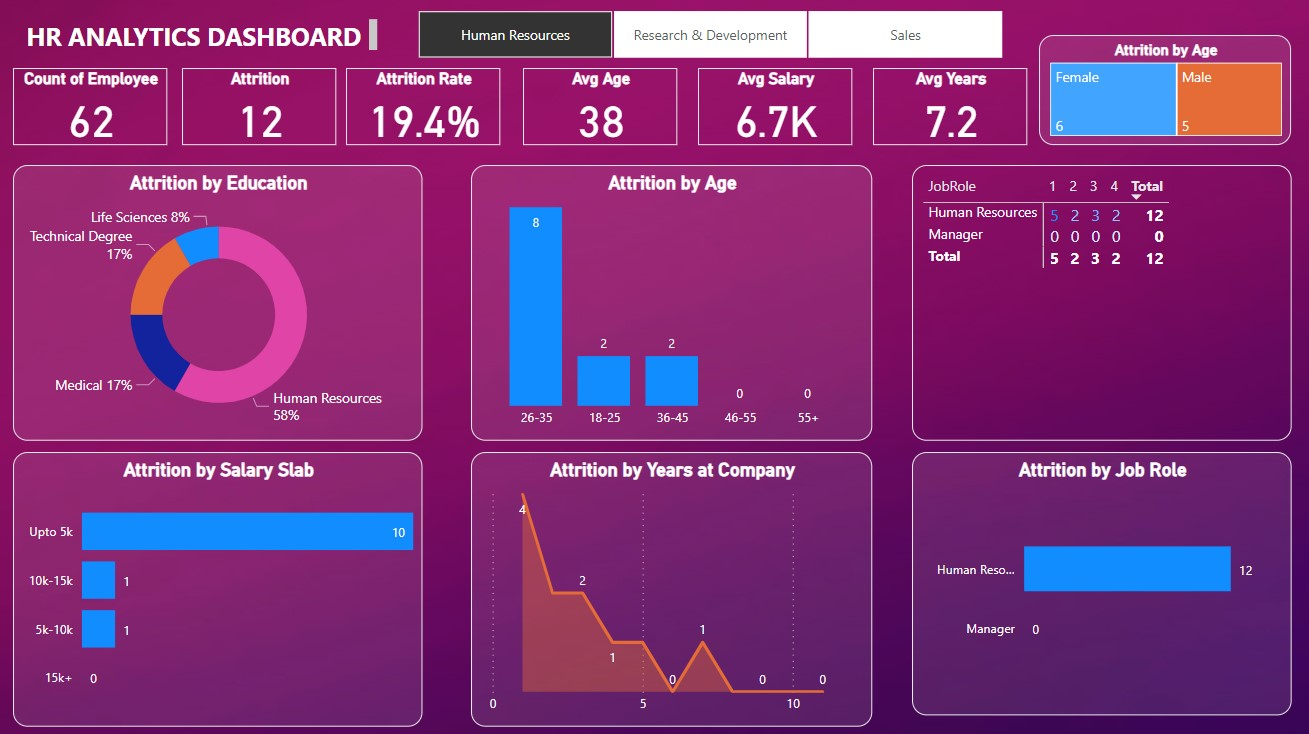

The dashboard page shown, as its layout file describes it:
{"tool":"powerbi","page":{"name":"Page 1","canvas":[1280,720],"ordinal":0},"visuals":[{"type":"card","title":"Count of Employee","fields":{"Values":["CountNonNull(HR_Analytics.EmpID)"]},"box":[16,71,150,75],"z":0},{"type":"card","title":"Attrition","fields":{"Values":["Sum(HR_Analytics.AttritionCount)"]},"box":[180,71,150,75],"z":1000},{"type":"card","title":"Attrition Rate","fields":{"Values":["HR_Analytics.AttritionRate"]},"box":[339,71,150,75],"z":2000},{"type":"card","title":"Avg Age","fields":{"Values":["Avg(HR_Analytics.Age)"]},"box":[511,71,150,75],"z":3000},{"type":"card","title":"Avg Years","fields":{"Values":["Avg(HR_Analytics.YearsAtCompany)"]},"box":[851,71,150,75],"z":4000},{"type":"card","title":"Avg Salary","fields":{"Values":["Avg(HR_Analytics.MonthlyIncome)"]},"box":[681,71,150,75],"z":5000},{"type":"donutChart","title":"Attrition by Education","fields":{"Category":["HR_Analytics.EducationField"],"Y":["Sum(HR_Analytics.AttritionCount)"]},"box":[16,165,398,268],"z":6000},{"type":"columnChart","title":"Attrition by Age","fields":{"Category":["HR_Analytics.AgeGroup"],"Y":["Sum(HR_Analytics.AttritionCount)"]},"box":[461,165,390,268],"z":7000},{"type":"pivotTable","fields":{"Rows":["HR_Analytics.JobRole"],"Values":["Sum(HR_Analytics.AttritionCount)"],"Columns":["HR_Analytics.JobSatisfaction"]},"box":[889,165,369,268],"z":8000},{"type":"barChart","title":"Attrition by Salary Slab","fields":{"Category":["HR_Analytics.SalarySlab"],"Y":["Sum(HR_Analytics.AttritionCount)"]},"box":[16,444,398,267],"z":9000},{"type":"barChart","title":"Attrition by Job Role","fields":{"Category":["HR_Analytics.JobRole"],"Y":["Sum(HR_Analytics.AttritionCount)"]},"box":[889,444,369,256],"z":10000},{"type":"areaChart","title":"Attrition by Years at Company","fields":{"Category":["HR_Analytics.YearsAtCompany"],"Y":["Sum(HR_Analytics.AttritionCount)"]},"box":[461,444,390,267],"z":11000},{"type":"treemap","title":"Attrition by Age","fields":{"Group":["HR_Analytics.Gender"],"Values":["Sum(HR_Analytics.AttritionCount)"]},"box":[1013,39,245,107],"z":12000},{"type":"slicer","fields":{"Values":["HR_Analytics.Department"]},"box":[384,9,617,59],"z":13000},{"type":"textbox","box":[16,18,359,41],"z":14000}]}

Visuals, with their boxes in screenshot pixels (x1, y1, x2, y2), scaled from the page's 1280x720 canvas onto the 1309x734 screenshot:
"Count of Employee" card: 16:72:170:149
"Attrition" card: 184:72:337:149
"Attrition Rate" card: 347:72:500:149
"Avg Age" card: 523:72:676:149
"Avg Years" card: 870:72:1024:149
"Avg Salary" card: 696:72:850:149
"Attrition by Education" donutChart: 16:168:423:441
"Attrition by Age" columnChart: 471:168:870:441
pivotTable - HR_Analytics.JobRole x Sum(HR_Analytics.AttritionCount): 909:168:1287:441
"Attrition by Salary Slab" barChart: 16:453:423:725
"Attrition by Job Role" barChart: 909:453:1287:714
"Attrition by Years at Company" areaChart: 471:453:870:725
"Attrition by Age" treemap: 1036:40:1287:149
slicer - HR_Analytics.Department: 393:9:1024:69
textbox: 16:18:383:60
